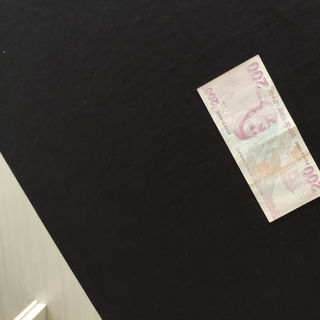200TLBack: (196, 54, 320, 223)
